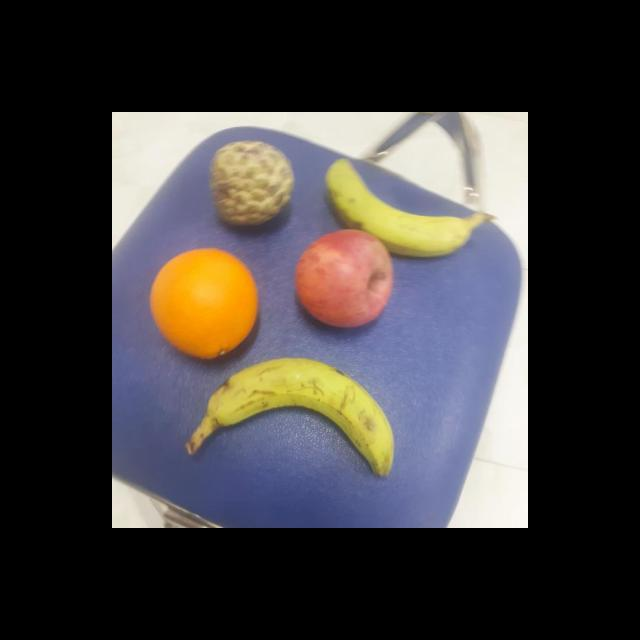Sakya fruit: (204, 136, 296, 228)
apple: (294, 226, 398, 328)
banana: (204, 356, 398, 479), (319, 151, 472, 258)
orange: (146, 246, 262, 360)
